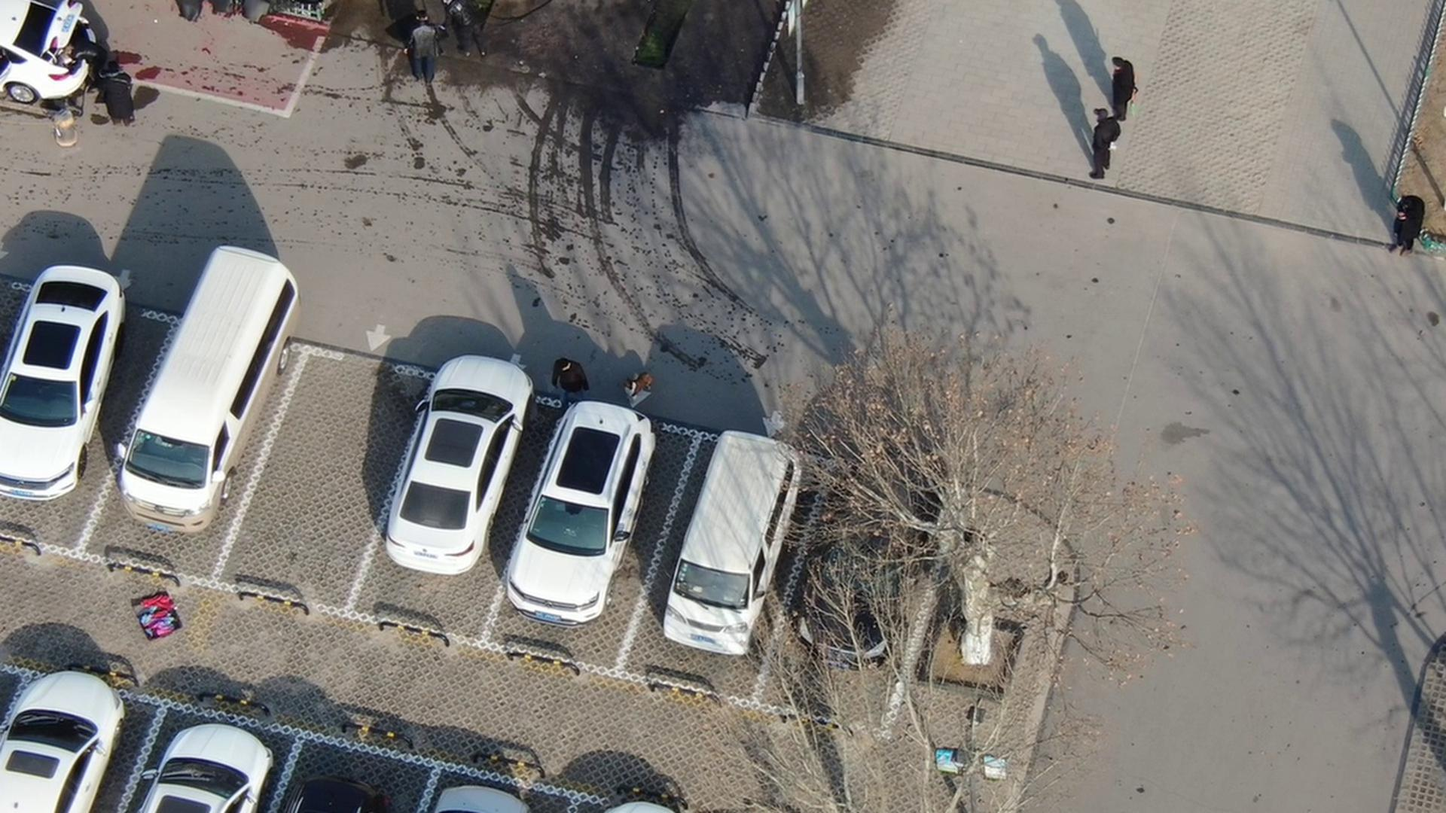human: (1082, 103, 1121, 184), (403, 3, 442, 81), (550, 350, 592, 417), (441, 1, 490, 56), (70, 29, 113, 91), (1103, 48, 1136, 117), (108, 53, 139, 122)
